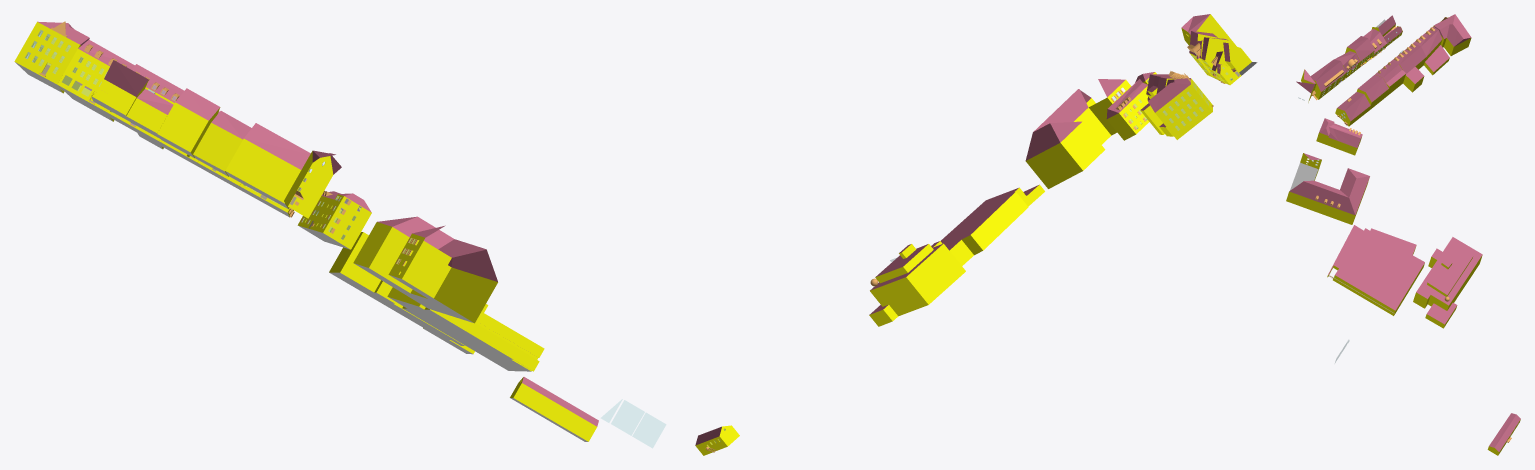
3 renders of one model, left to right at view 1: azimuth 30°, elevation 25°; view 2: azimuth 150°, elevation 25°; view 3: azimuth 270°, elevation 25°, orthographic. The views are drawn at different scales.
Visible parts, largest first — view 1: mesh; view 2: mesh; view 3: mesh.
Part boxes in pixels (x1,y1,x2,y2): mesh: [14, 21, 665, 448]; mesh: [695, 14, 1257, 455]; mesh: [1286, 14, 1520, 455].
Size of the model in its own units: 191 by 175 by 124.
